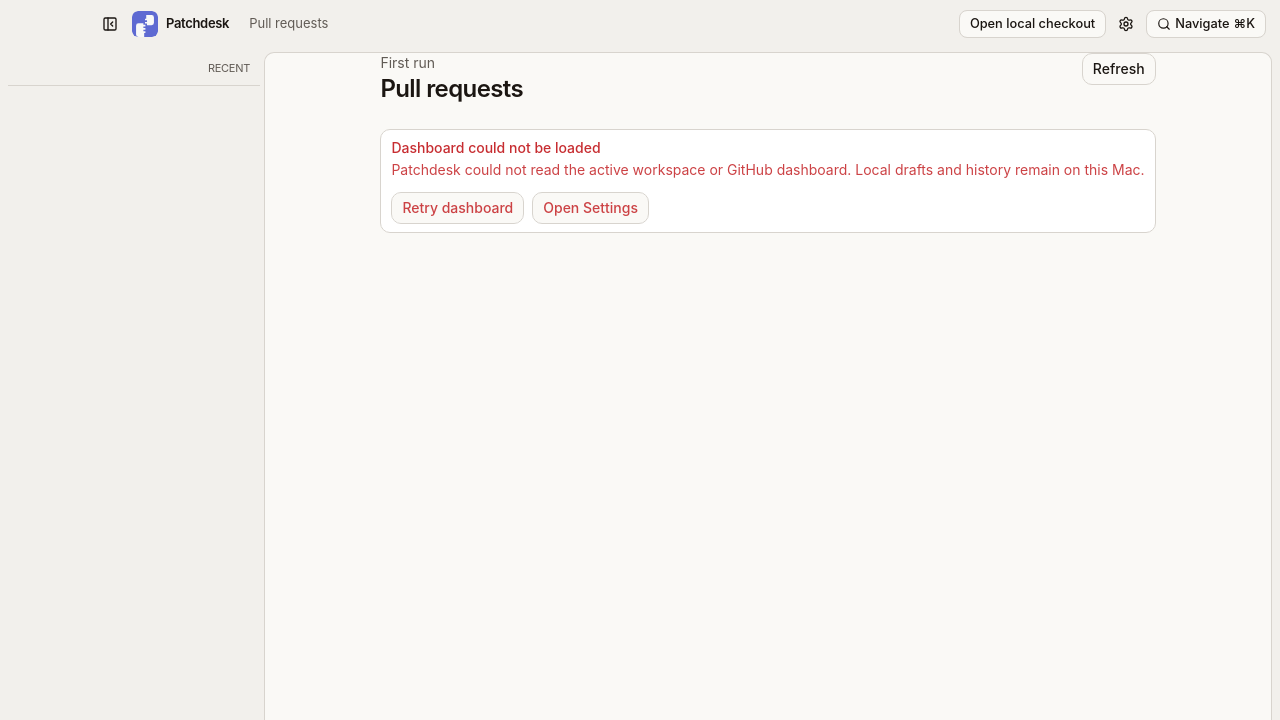
it: file-backed renderer preferences › stays silent for a genuine first run with no config file yet
The width and height of the screenshot is (1280, 720).
Check: the heading "Pull requests" is shown, box [380,73,523,105]
Click the button named "Settings".
click(1126, 24)  # box [1112,10,1140,38]
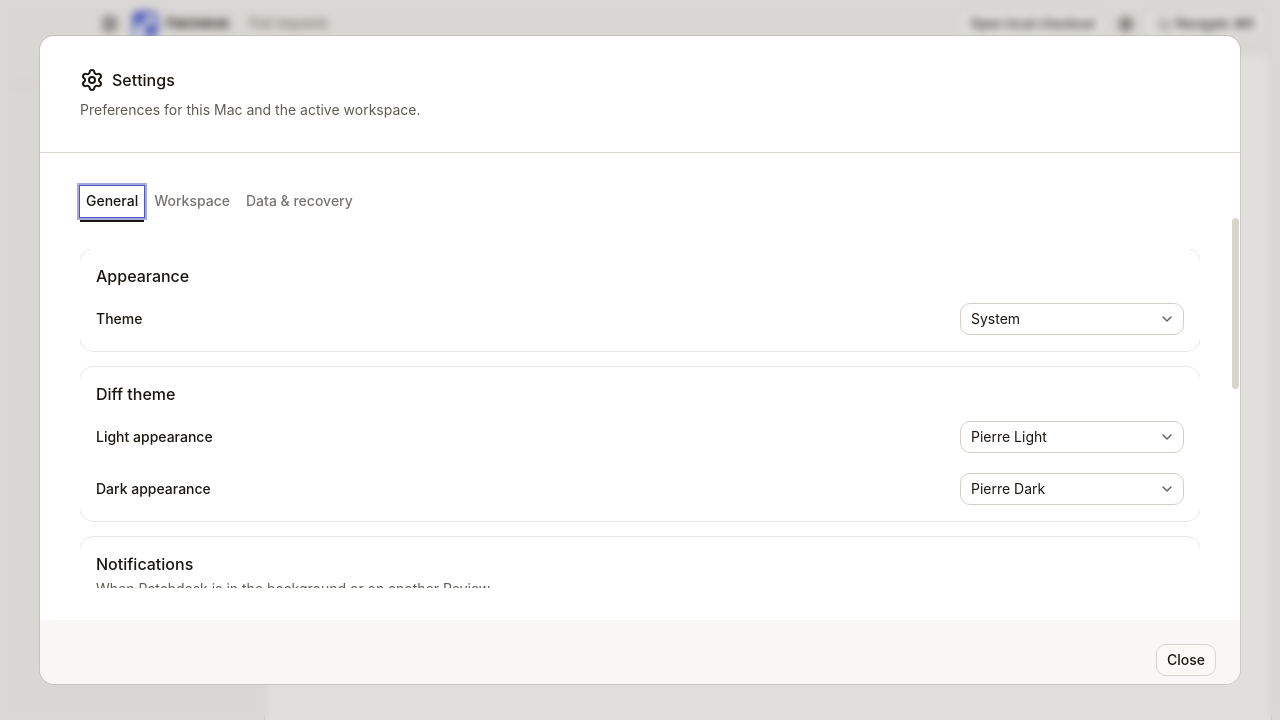
Check: the dialog "Settings" is shown
